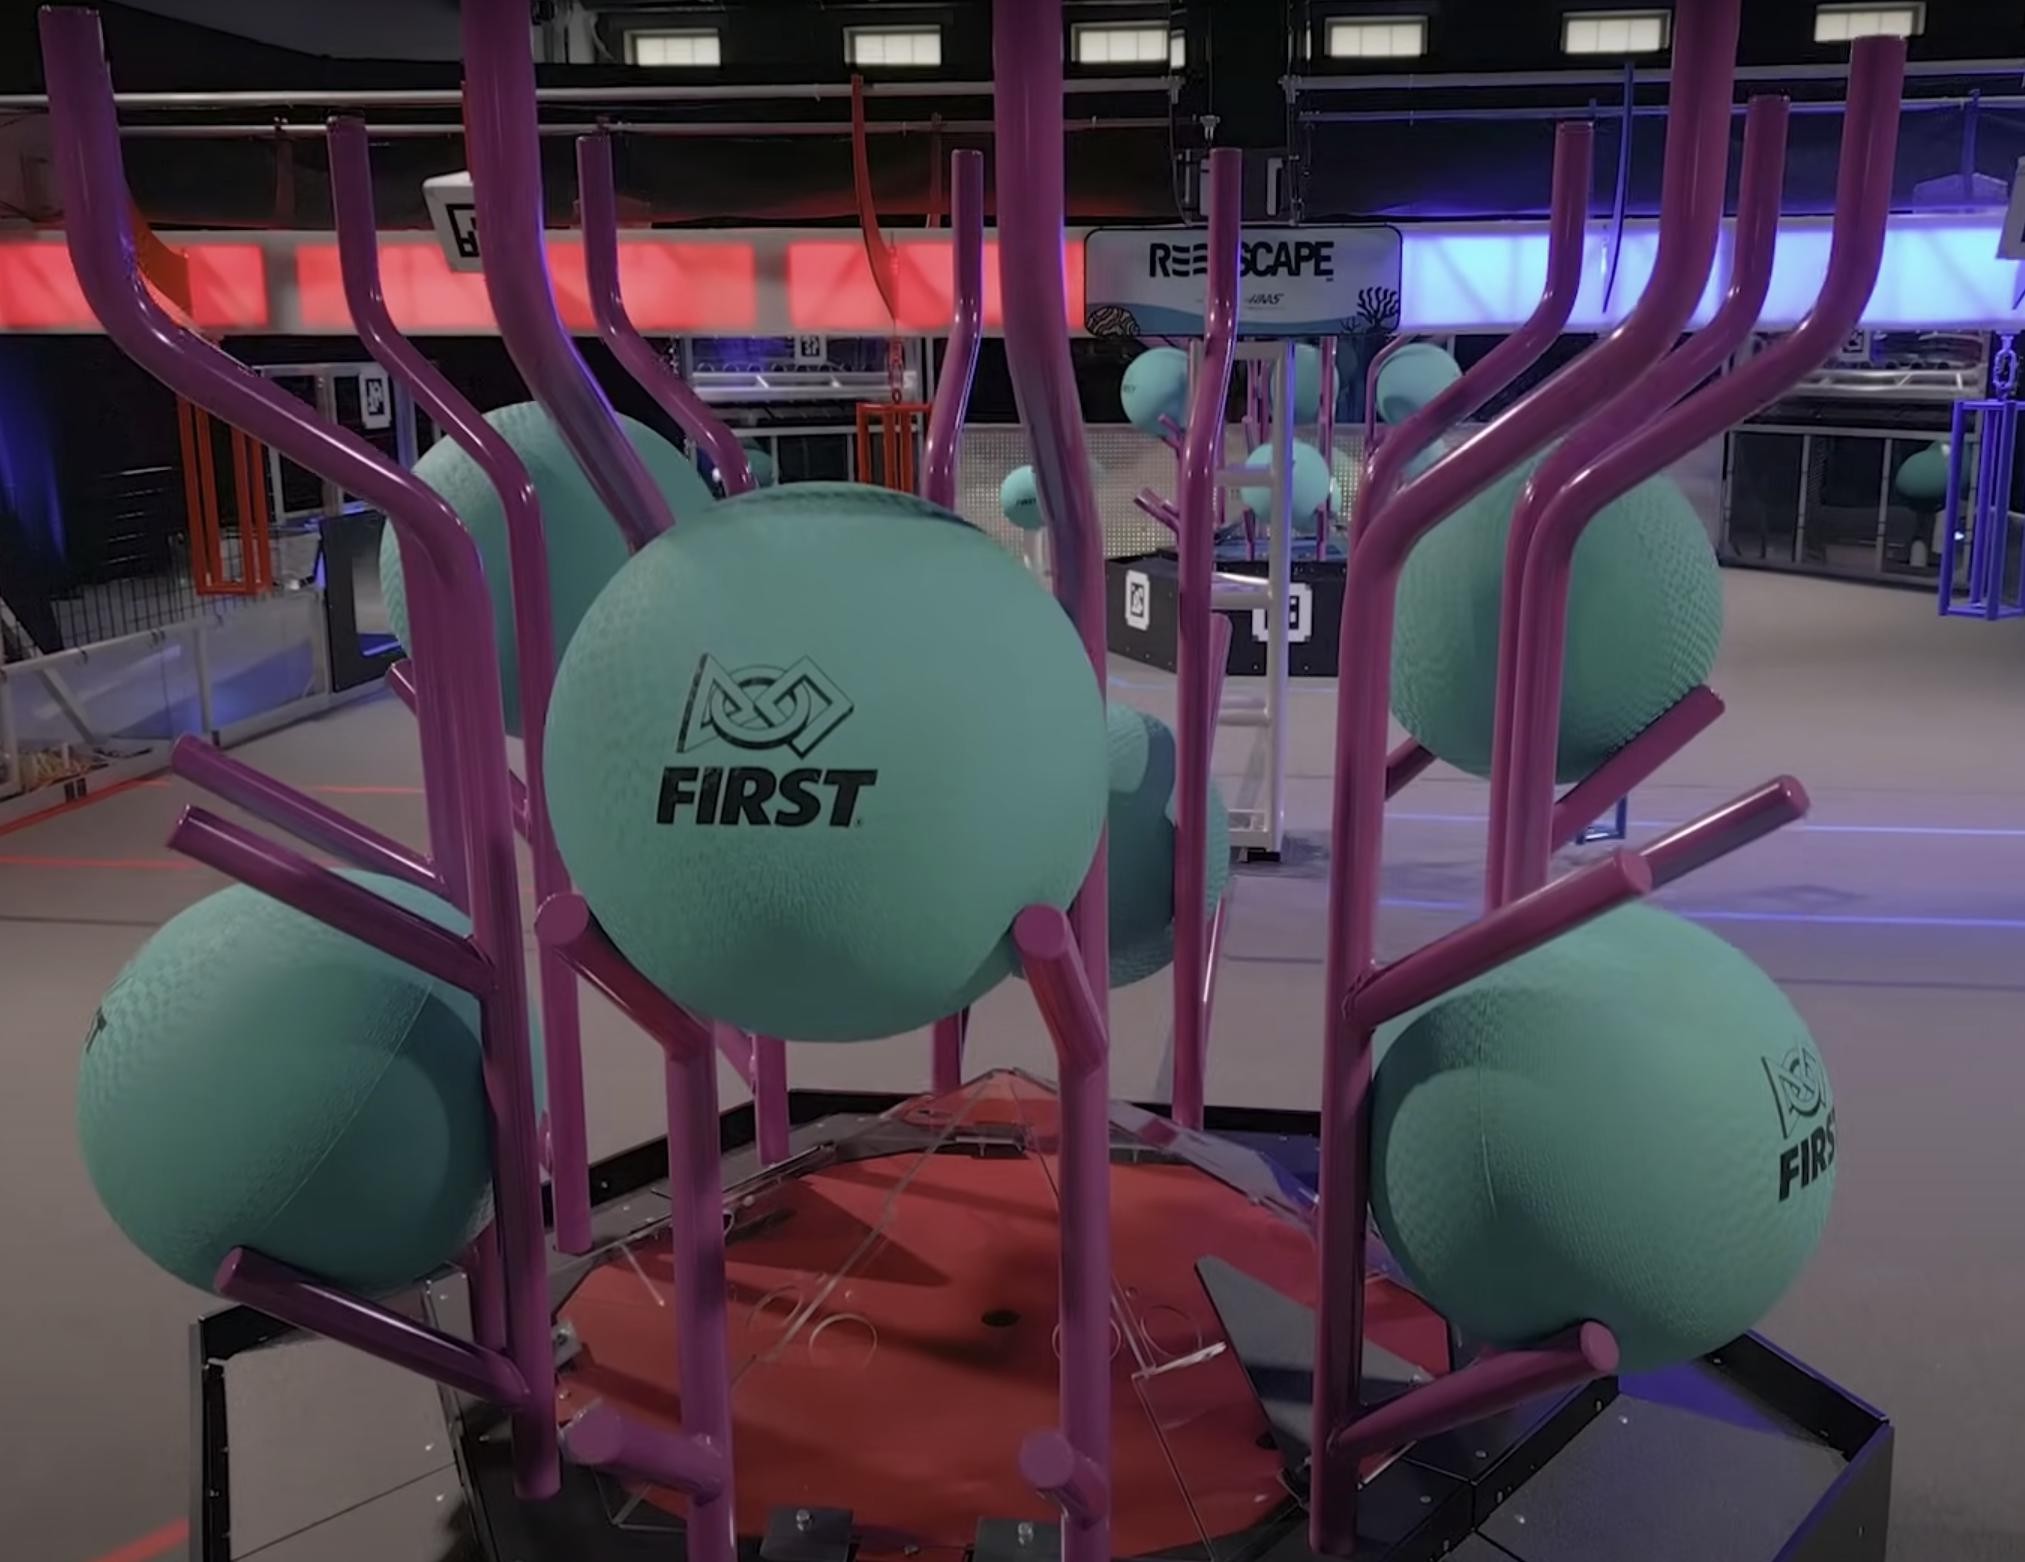algae: (528, 477, 1118, 1042), (1365, 889, 1846, 1368), (66, 875, 527, 1299), (381, 404, 717, 743), (1378, 464, 1723, 784), (1012, 707, 1232, 989), (1239, 438, 1331, 527), (1375, 343, 1462, 430), (1259, 345, 1339, 427), (1122, 348, 1188, 436), (998, 468, 1062, 527), (1401, 436, 1446, 479)
coral: (1022, 532, 1045, 569)
